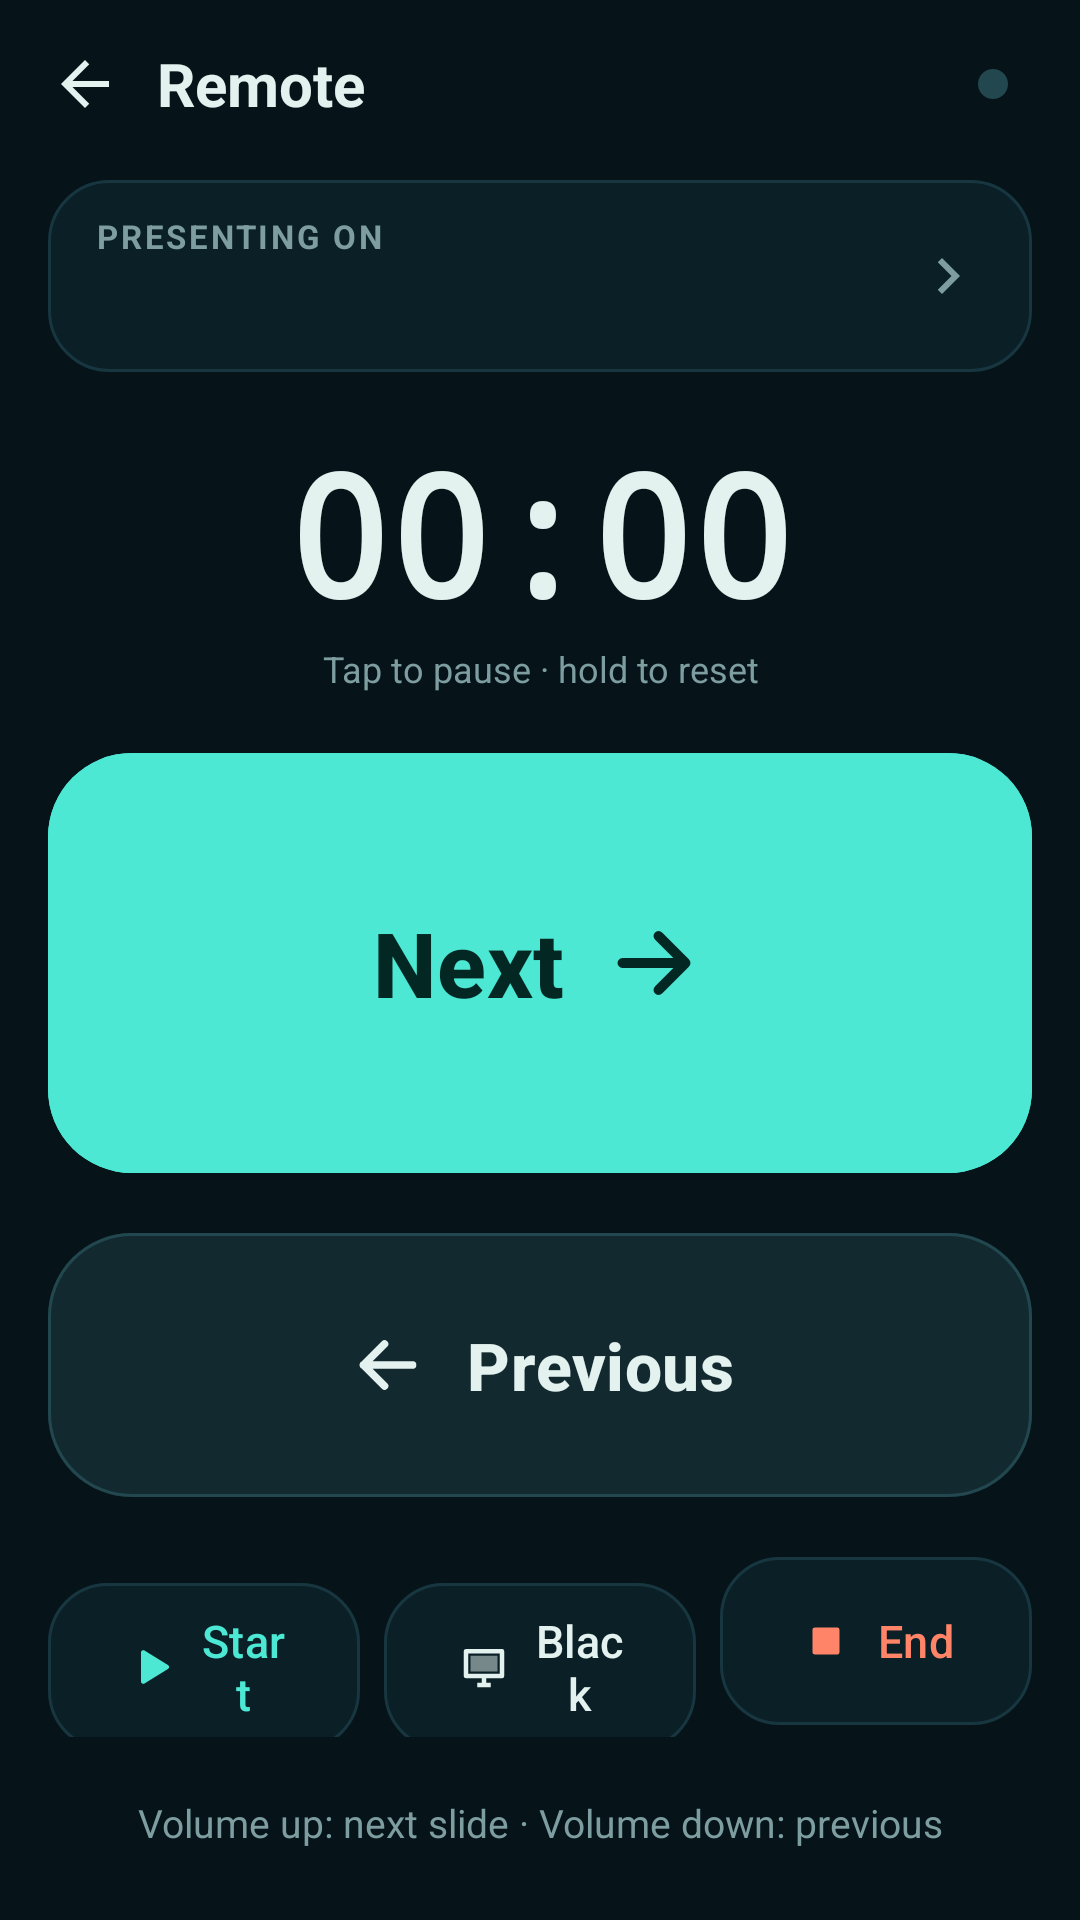

Named icons in this screenshot (1080px x 1920px) and their centers, [x,y]:
chevron: [949,276]
dot: [993,84]
